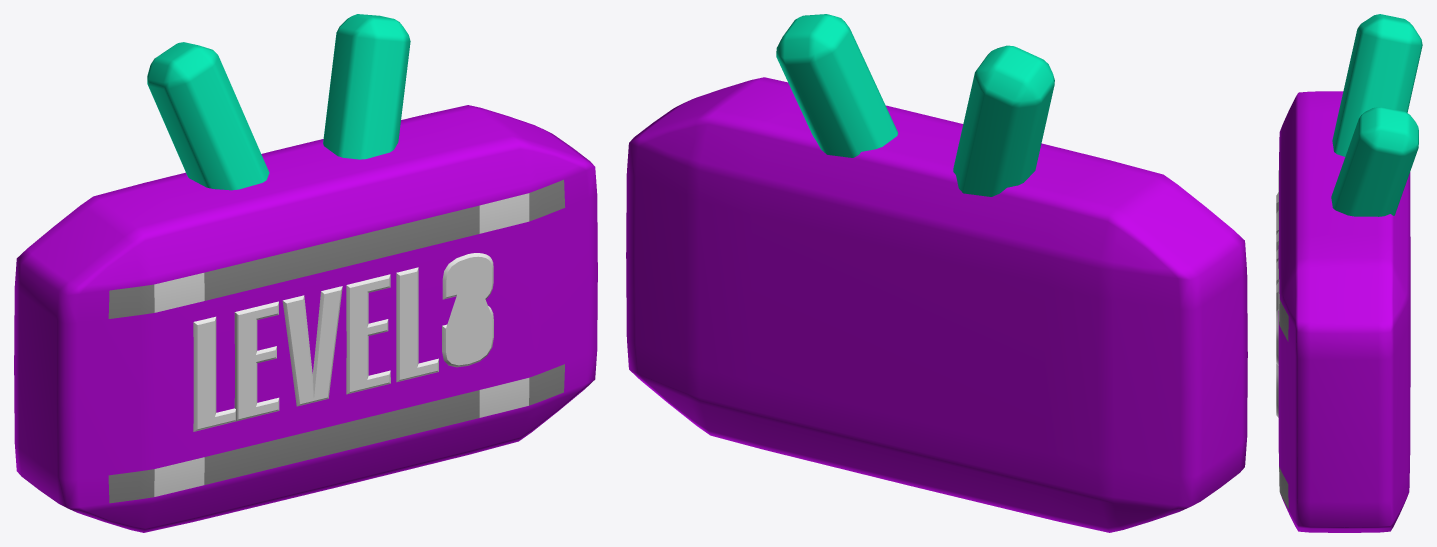
Rendered from text_level3.fbx.
3 renders of one model, left to right at view 1: azimuth 30°, elevation 25°; view 2: azimuth 150°, elevation 25°; view 3: azimuth 270°, elevation 25°, orthographic. The views are drawn at different scales.
Visible parts, largest first — view 1: text3:typeMesh2; view 2: text3:typeMesh2; view 3: text3:typeMesh2.
Part boxes in pixels (x1,y1,x2,y2): text3:typeMesh2: (14,14,597,532); text3:typeMesh2: (626,14,1247,532); text3:typeMesh2: (1276,14,1422,532).
Bounding box in the file's own units: 9.72 × 7.45 × 2.52.
